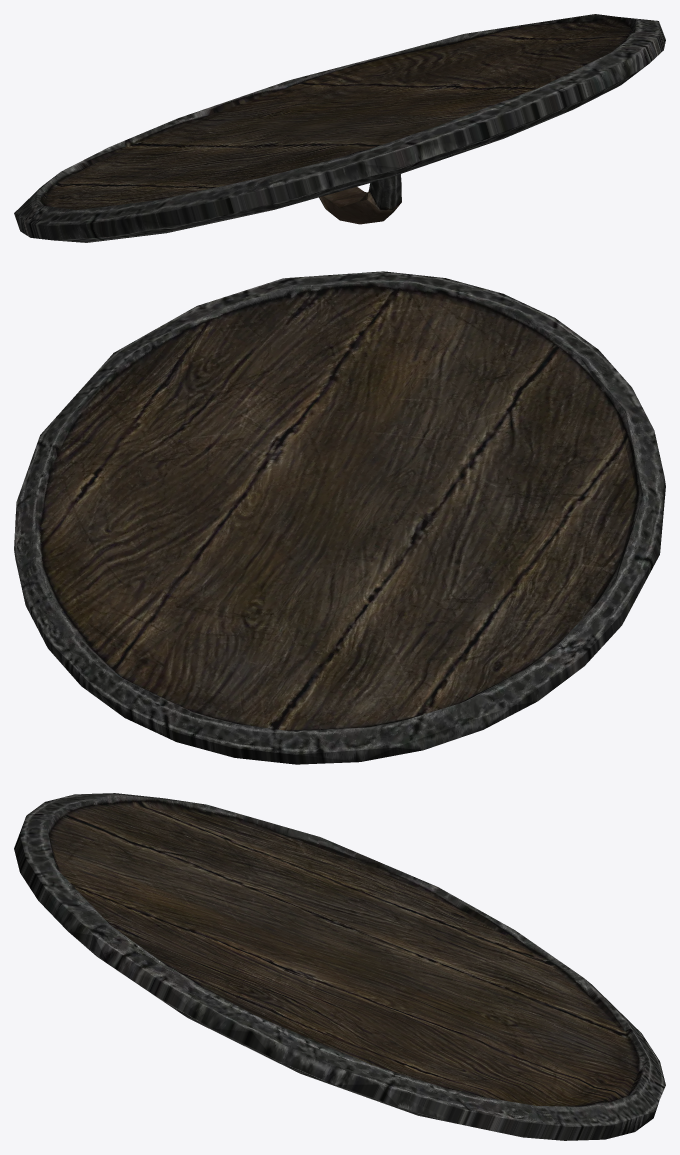
Rendered from ITAR_NEWSHIELD_01R.glb.
The picture shows the model from 3 angles, top to bottom: view 1: azimuth 30°, elevation 25°; view 2: azimuth 150°, elevation 25°; view 3: azimuth 270°, elevation 25°; orthographic projection. The views are drawn at different scales.
Visible parts, largest first — view 1: ITAR_NEWSHIELD_01R; view 2: ITAR_NEWSHIELD_01R; view 3: ITAR_NEWSHIELD_01R.
Part boxes in pixels (bbox=[...]): ITAR_NEWSHIELD_01R: bbox=[14, 14, 665, 242]; ITAR_NEWSHIELD_01R: bbox=[14, 271, 665, 764]; ITAR_NEWSHIELD_01R: bbox=[14, 793, 665, 1140].
Bounding box in the file's own units: 0.6067 × 0.2525 × 0.5692.
Materials: 1 (1 with a texture image).
